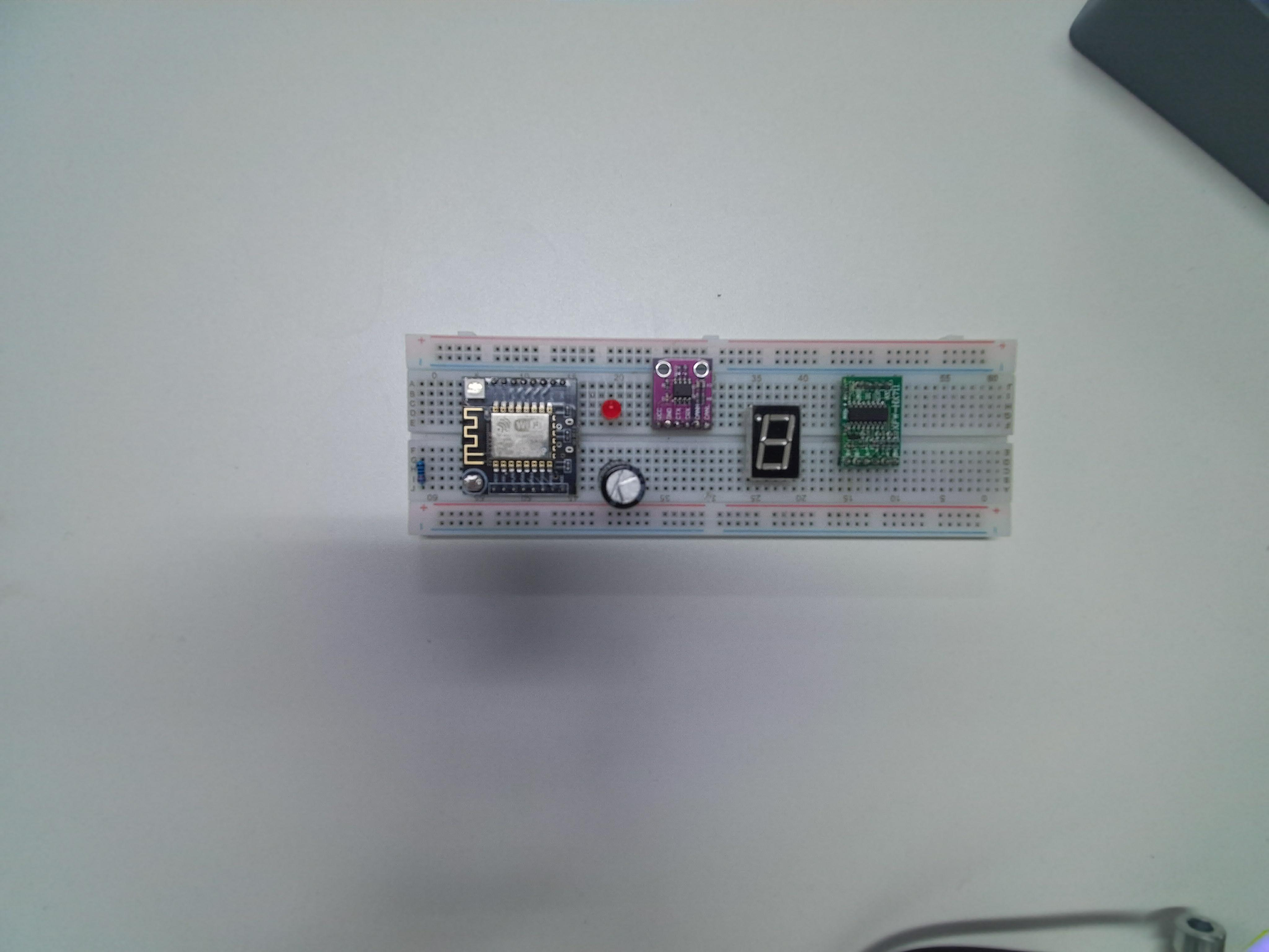base: (406, 333, 1023, 544)
capacitor: (602, 462, 645, 509)
digit-board: (749, 403, 805, 481)
esp: (460, 371, 579, 499)
green-board: (837, 374, 905, 471)
purple-board: (651, 352, 714, 433)
red-led: (598, 395, 624, 423)
resistor-small: (415, 459, 431, 490)
